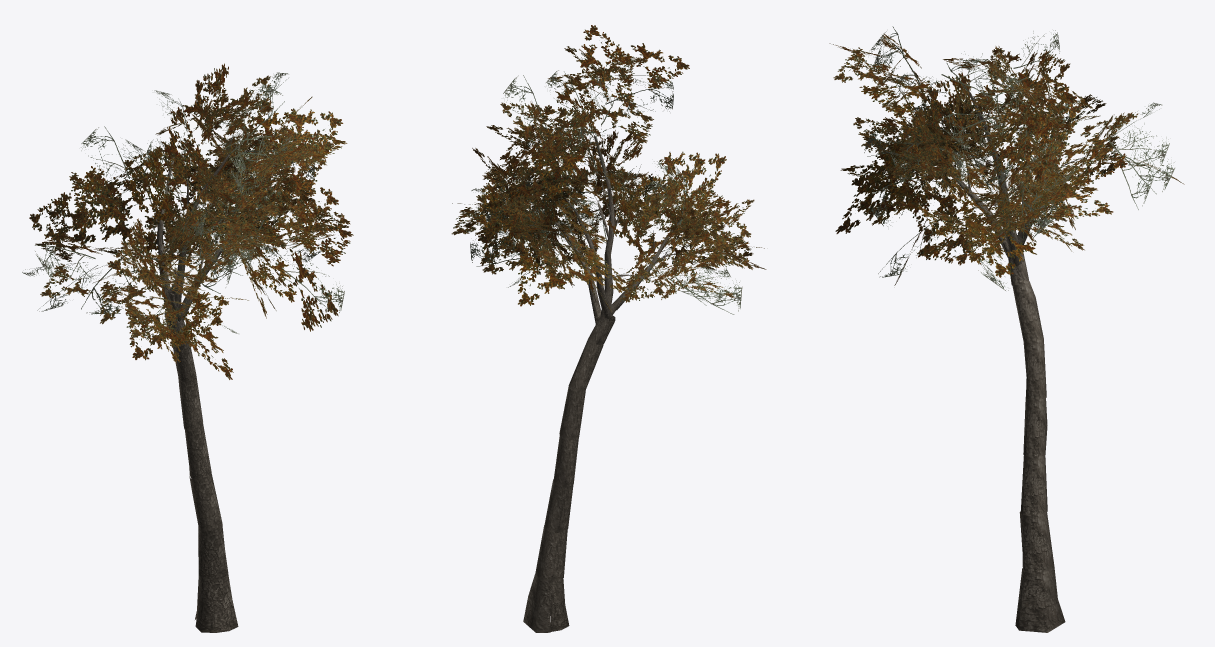
The model's file is btree_gothic_tall_autumn.glb.
The picture shows the model from 3 angles, left to right: view 1: azimuth 30°, elevation 25°; view 2: azimuth 150°, elevation 25°; view 3: azimuth 270°, elevation 25°; orthographic projection. The views are drawn at different scales.
Visible parts, largest first — view 1: btree_gothic_tall_autumn_LOD0; view 2: btree_gothic_tall_autumn_LOD0; view 3: btree_gothic_tall_autumn_LOD0.
Boxes of the visible parts, bbox=[...] form: btree_gothic_tall_autumn_LOD0: bbox=[22, 63, 353, 632]; btree_gothic_tall_autumn_LOD0: bbox=[451, 25, 766, 632]; btree_gothic_tall_autumn_LOD0: bbox=[829, 26, 1184, 632].
Size of the model in its own units: 8.41 by 14.9 by 8.57.
1 material, 1 textured.
